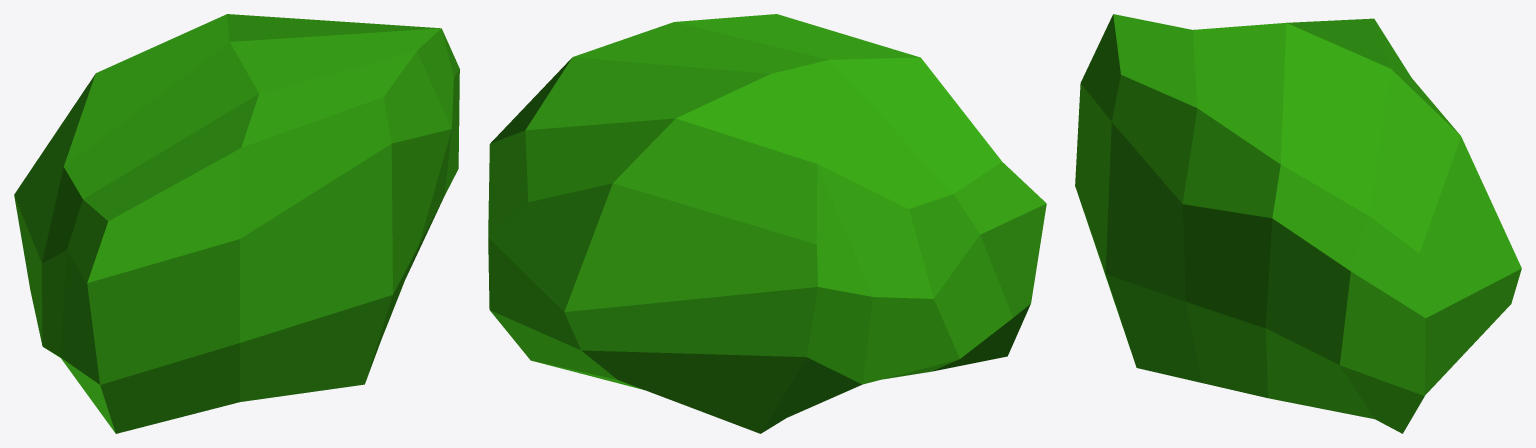
File: Sc_arbusto_1.fbx
3 renders of one model, left to right at view 1: azimuth 30°, elevation 25°; view 2: azimuth 150°, elevation 25°; view 3: azimuth 270°, elevation 25°, orthographic. The views are drawn at different scales.
Parts seen in each view (by area): view 1: ArbustoBosque.001; view 2: ArbustoBosque.001; view 3: ArbustoBosque.001.
Part boxes in pixels (left/top/right/bottom): ArbustoBosque.001: left=14, top=14, right=459, bottom=433; ArbustoBosque.001: left=488, top=14, right=1046, bottom=433; ArbustoBosque.001: left=1075, top=14, right=1521, bottom=433.
Size of the model in its own units: 117 by 77 by 91.86.
